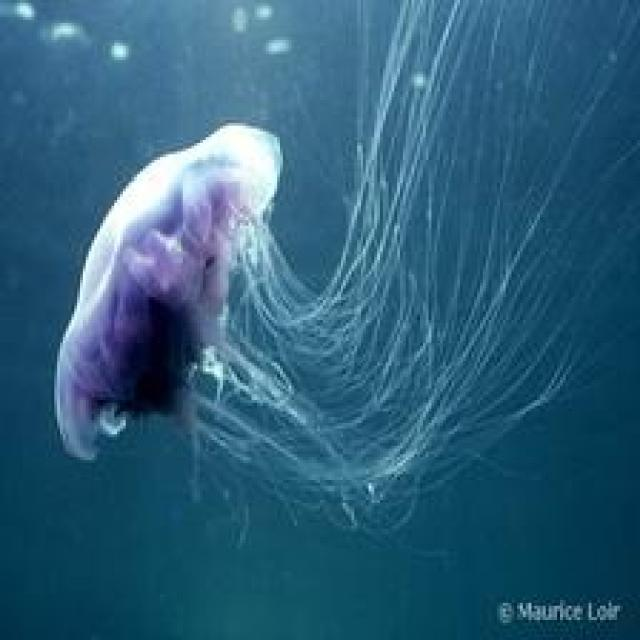Human: (51, 120, 286, 463)
